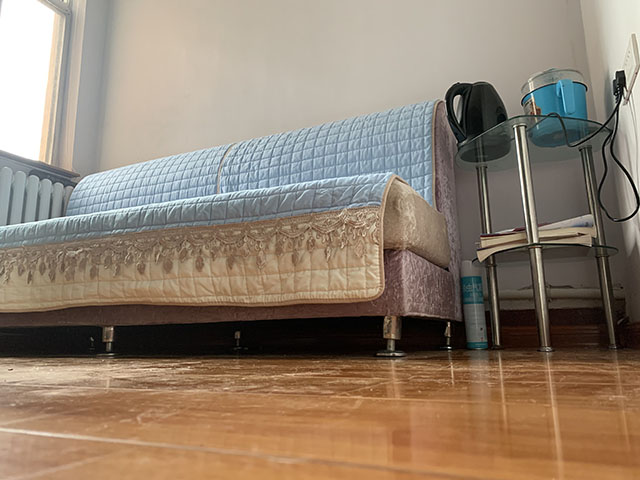sofa: (1, 99, 464, 360)
table: (454, 114, 621, 353)
